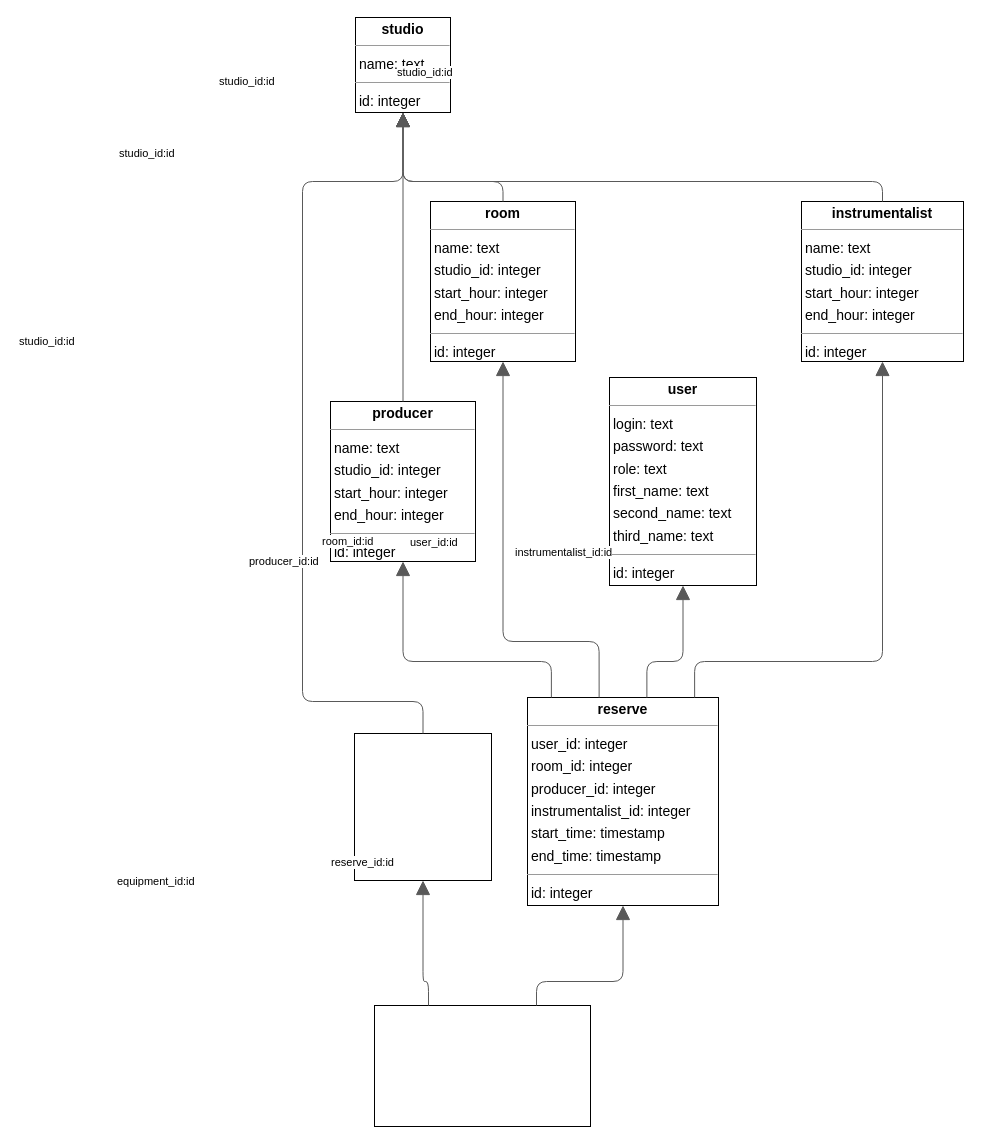
Some shapes in this 981 by 1144 pixel diagram are drawn without their labels. The shapes that lost their labels are listed below. From the top down, each one's centre as x and y in pixels, then its label:
point 423,806: equipment name: text type: integer studio_id: integer id: integer
point 482,1065: reserved_equipments reserve_id: integer equipment_id: integer id: integer
